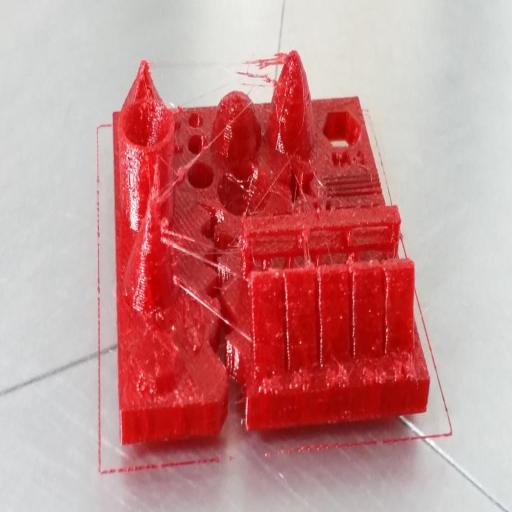stringing: (146, 105, 262, 205), (160, 212, 249, 290), (235, 42, 289, 93)
